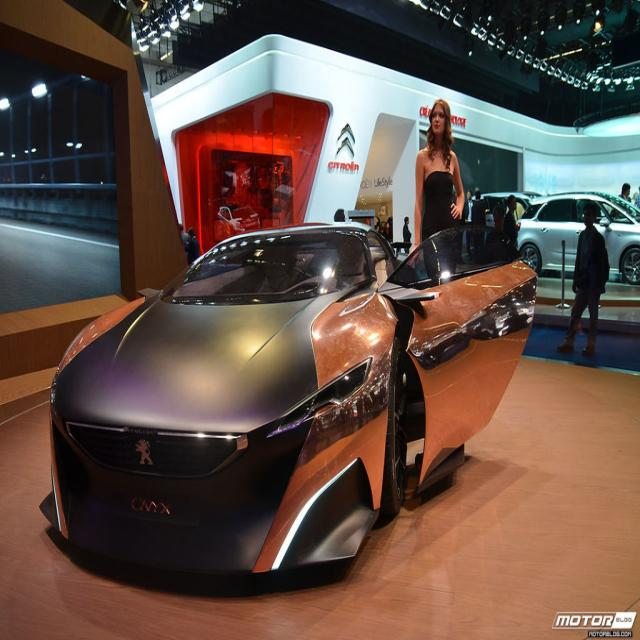car: (44, 219, 539, 586)
